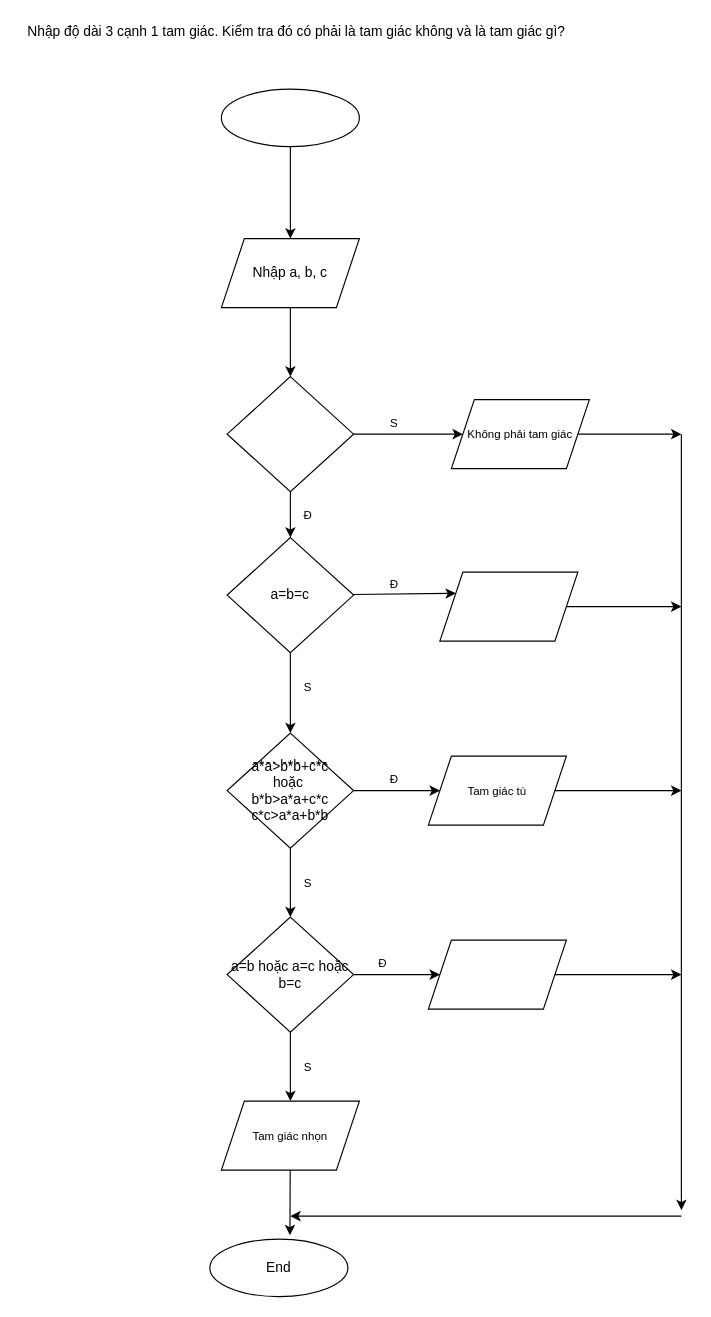
The diagram is 711 pixels wide and 1317 high, and some of its shapes have lost their labels. Here are the shapes that lost their labels. From the top down, the centre of each, then its label:
the point at 289,117: Start
the point at 290,433: Xét a+b>c hoặc a+c>b hoặc b+c>a
the point at 508,606: Tam giác đều
the point at 496,974: Tam giác cân
